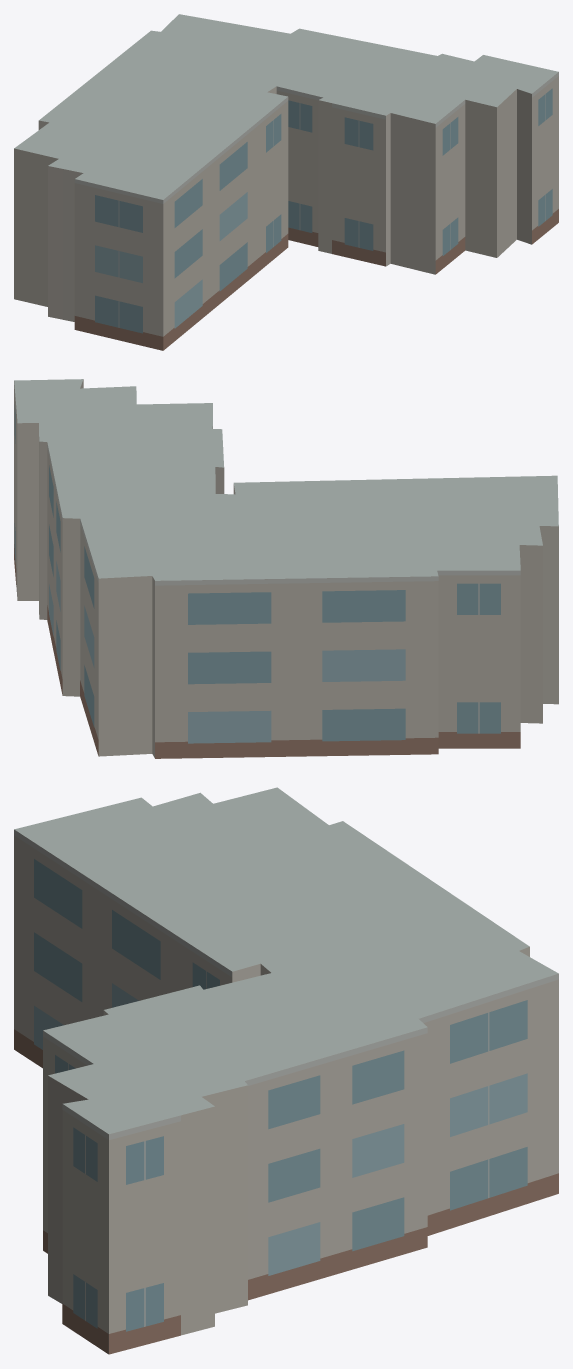
The model's file is survey-upis-32666570.glb.
3 views of the same model, one above another, from view 1: azimuth 30°, elevation 25°; view 2: azimuth 150°, elevation 25°; view 3: azimuth 270°, elevation 25° (orthographic). The views are drawn at different scales.
Visible parts, largest first — view 1: survey-upis-32666570.tmp; view 2: survey-upis-32666570.tmp; view 3: survey-upis-32666570.tmp.
Part boxes in pixels (box(x1,y1,x2,y2)): survey-upis-32666570.tmp: box(14, 14, 558, 350); survey-upis-32666570.tmp: box(14, 379, 558, 758); survey-upis-32666570.tmp: box(14, 787, 558, 1354).
Bounding box in the file's own units: 30.93 × 9.15 × 20.53.
